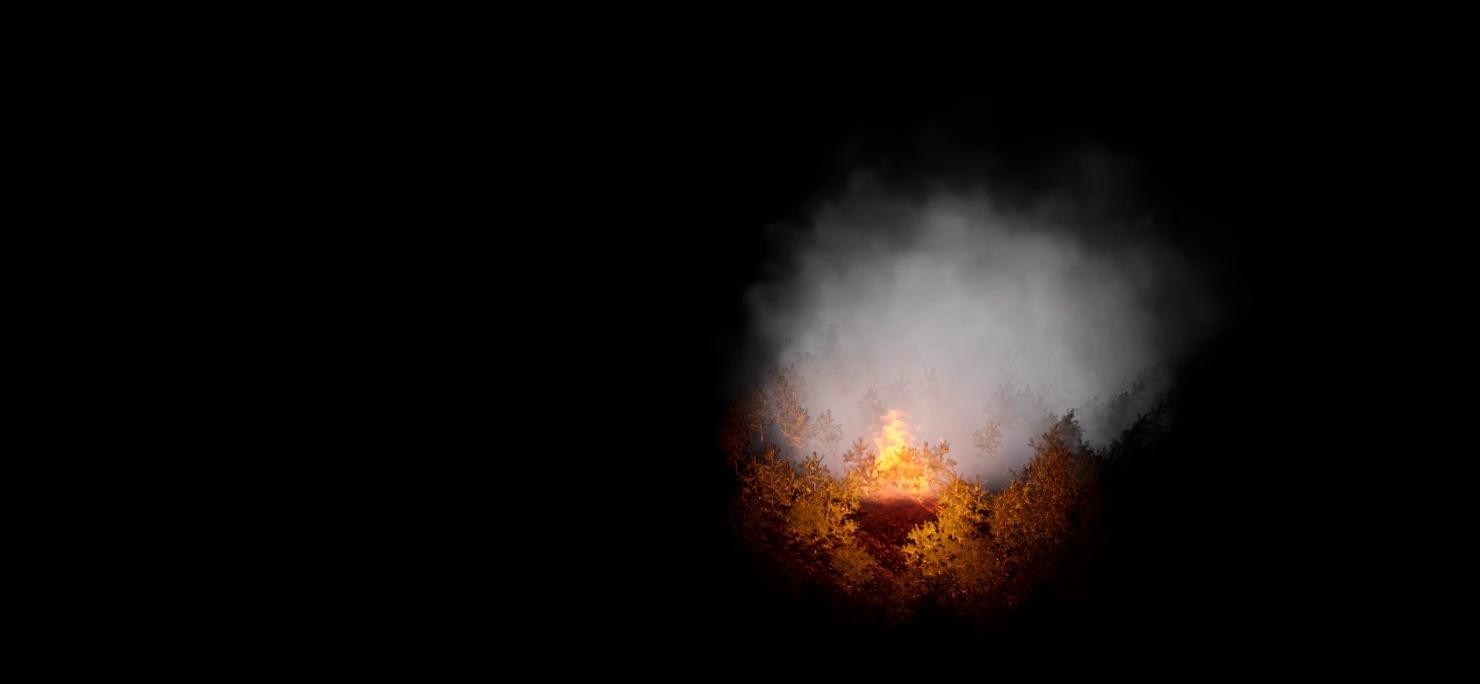fire: (865, 400, 954, 507)
smoke: (745, 170, 1198, 483)
